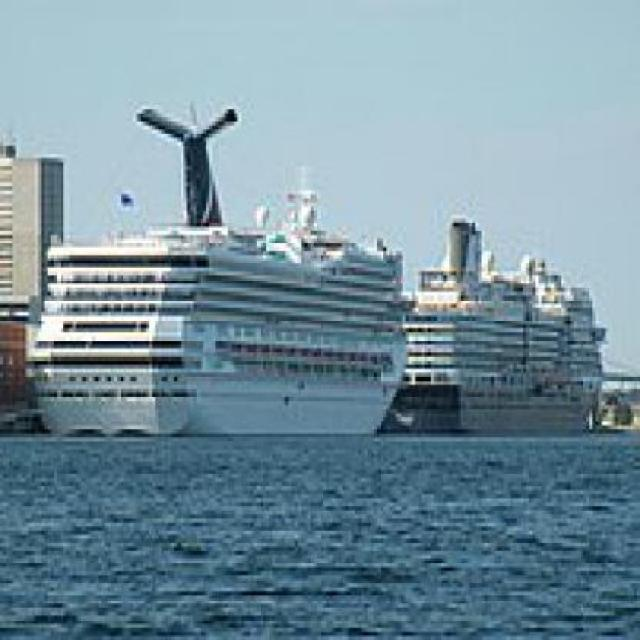cruise: (23, 89, 420, 451), (394, 203, 622, 459)
